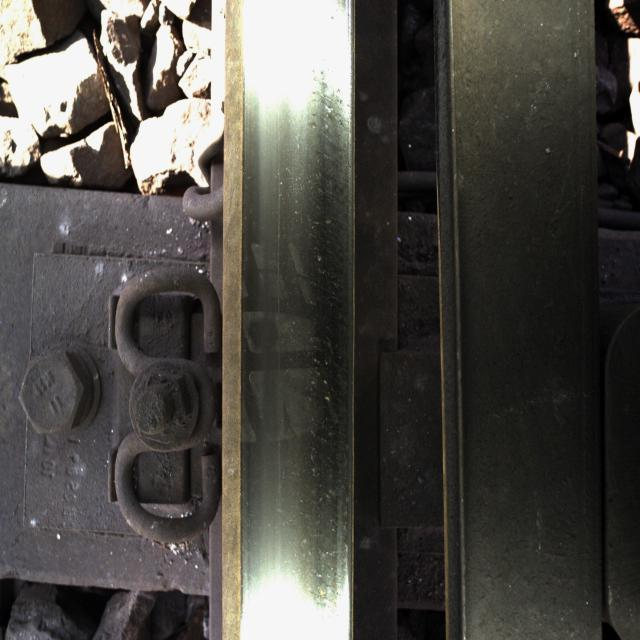normal: (250, 50, 350, 616)
